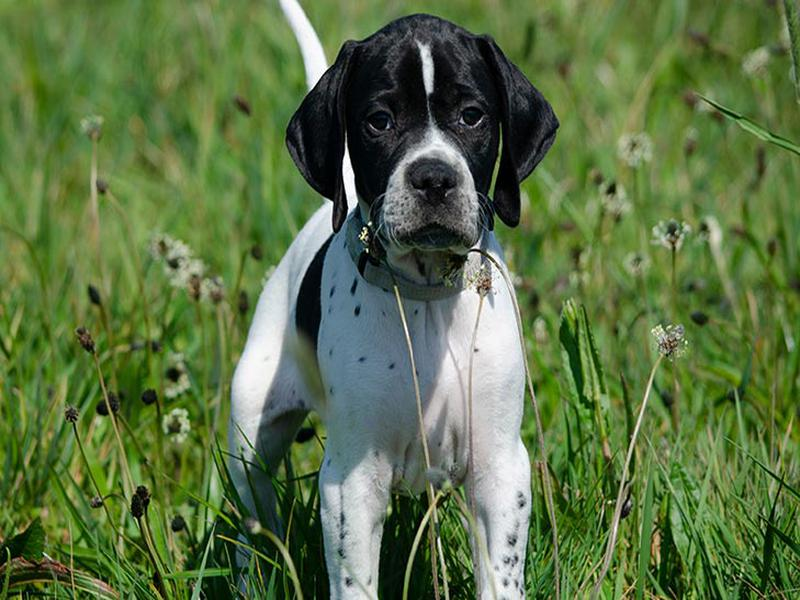dog_stand: (228, 1, 561, 600)
